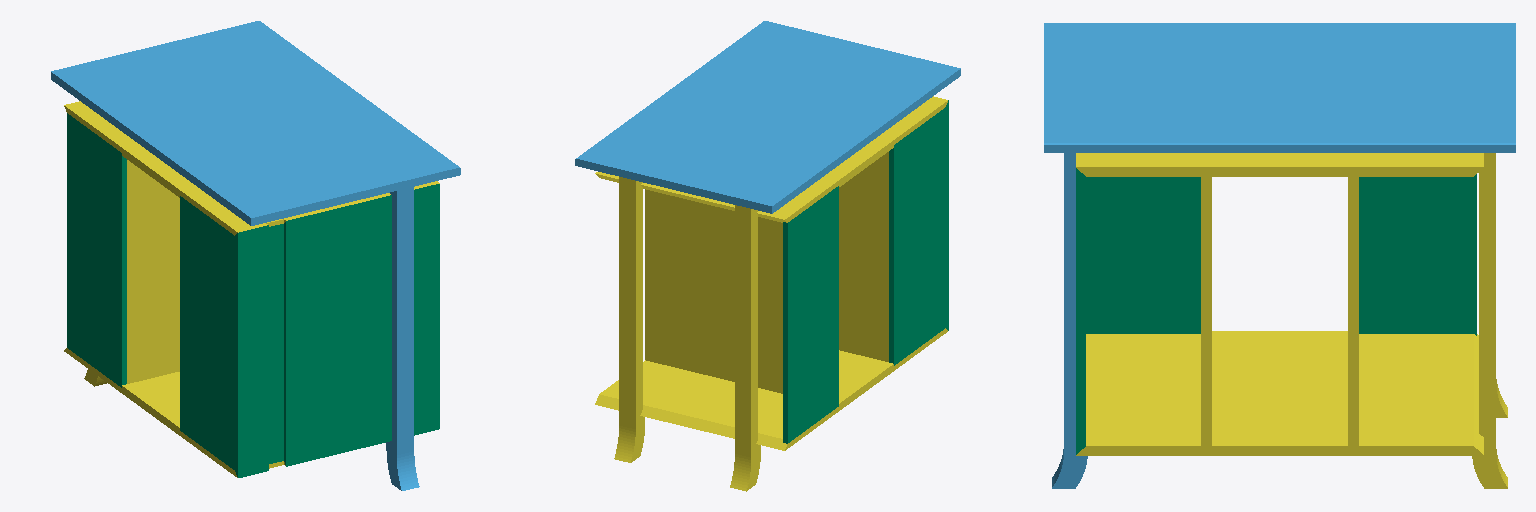
robot.urdf — partnet_1314c9a583812b9fc0eea8e38540939d:
<?xml version="1.0" ?>
<robot name="partnet_1314c9a583812b9fc0eea8e38540939d">
	<link name="base"/>
	<link name="link_0">
		<visual name="drawer_front-28">
			<origin xyz="0 0 0"/>
			<geometry>
				<mesh filename="textured_objs/original-10.obj"/>
			</geometry>
		</visual>
		<visual name="handle-27">
			<origin xyz="0 0 0"/>
			<geometry>
				<mesh filename="textured_objs/original-11.obj"/>
			</geometry>
		</visual>
		<collision>
			<origin xyz="0 0 0"/>
			<geometry>
				<mesh filename="textured_objs/original-10.obj"/>
			</geometry>
		</collision>
		<collision>
			<origin xyz="0 0 0"/>
			<geometry>
				<mesh filename="textured_objs/original-11.obj"/>
			</geometry>
		</collision>
	</link>
	<joint name="joint_0" type="prismatic">
		<origin xyz="0 0 0"/>
		<axis xyz="0 0 1"/>
		<child link="link_0"/>
		<parent link="link_2"/>
		<limit lower="0" upper="1"/>
	</joint>
	<link name="link_1">
		<visual name="drawer_front-25">
			<origin xyz="0 0 0"/>
			<geometry>
				<mesh filename="textured_objs/original-13.obj"/>
			</geometry>
		</visual>
		<visual name="drawer_bottom-29">
			<origin xyz="0 0 0"/>
			<geometry>
				<mesh filename="textured_objs/original-2.obj"/>
			</geometry>
		</visual>
		<visual name="handle-24">
			<origin xyz="0 0 0"/>
			<geometry>
				<mesh filename="textured_objs/original-14.obj"/>
			</geometry>
		</visual>
		<collision>
			<origin xyz="0 0 0"/>
			<geometry>
				<mesh filename="textured_objs/original-13.obj"/>
			</geometry>
		</collision>
		<collision>
			<origin xyz="0 0 0"/>
			<geometry>
				<mesh filename="textured_objs/original-2.obj"/>
			</geometry>
		</collision>
		<collision>
			<origin xyz="0 0 0"/>
			<geometry>
				<mesh filename="textured_objs/original-14.obj"/>
			</geometry>
		</collision>
	</link>
	<joint name="joint_1" type="prismatic">
		<origin xyz="0 0 0"/>
		<axis xyz="0 0 1"/>
		<child link="link_1"/>
		<parent link="link_2"/>
		<limit lower="0" upper="1"/>
	</joint>
	<link name="link_2">
		<visual name="board-32">
			<origin xyz="0 0 0"/>
			<geometry>
				<mesh filename="textured_objs/original-1.obj"/>
			</geometry>
		</visual>
		<visual name="board-32">
			<origin xyz="0 0 0"/>
			<geometry>
				<mesh filename="textured_objs/original-5.obj"/>
			</geometry>
		</visual>
		<visual name="back_panel-19">
			<origin xyz="0 0 0"/>
			<geometry>
				<mesh filename="textured_objs/original-4.obj"/>
			</geometry>
		</visual>
		<visual name="vertical_side_panel-20">
			<origin xyz="0 0 0"/>
			<geometry>
				<mesh filename="textured_objs/original-8.obj"/>
			</geometry>
		</visual>
		<visual name="vertical_side_panel-21">
			<origin xyz="0 0 0"/>
			<geometry>
				<mesh filename="textured_objs/original-7.obj"/>
			</geometry>
		</visual>
		<visual name="bottom_panel-22">
			<origin xyz="0 0 0"/>
			<geometry>
				<mesh filename="textured_objs/original-6.obj"/>
			</geometry>
		</visual>
		<collision>
			<origin xyz="0 0 0"/>
			<geometry>
				<mesh filename="textured_objs/original-1.obj"/>
			</geometry>
		</collision>
		<collision>
			<origin xyz="0 0 0"/>
			<geometry>
				<mesh filename="textured_objs/original-5.obj"/>
			</geometry>
		</collision>
		<collision>
			<origin xyz="0 0 0"/>
			<geometry>
				<mesh filename="textured_objs/original-4.obj"/>
			</geometry>
		</collision>
		<collision>
			<origin xyz="0 0 0"/>
			<geometry>
				<mesh filename="textured_objs/original-8.obj"/>
			</geometry>
		</collision>
		<collision>
			<origin xyz="0 0 0"/>
			<geometry>
				<mesh filename="textured_objs/original-7.obj"/>
			</geometry>
		</collision>
		<collision>
			<origin xyz="0 0 0"/>
			<geometry>
				<mesh filename="textured_objs/original-6.obj"/>
			</geometry>
		</collision>
	</link>
	<joint name="joint_2" type="fixed">
		<origin rpy="1.570796326794897 0 -1.570796326794897" xyz="0 0 0"/>
		<child link="link_2"/>
		<parent link="base"/>
	</joint>
</robot>

--- Facts derived from the render (not from the file) ---
Views: 3 orthographic renders of the robot side by side, from view 1: azimuth 30°, elevation 25°; view 2: azimuth 150°, elevation 25°; view 3: azimuth 270°, elevation 25°.
Robot: partnet_1314c9a583812b9fc0eea8e38540939d — 4 links, 3 joints (2 prismatic, 1 fixed); root link base; default pose: every joint at zero.
Links seen in each view (by area): view 1: link_1, link_0, link_2; view 2: link_2, link_0, link_1; view 3: link_2, link_0, link_1.
Link boxes in pixels (x1=…): link_1: x1=67, y1=113, x2=439, y2=477; link_0: x1=51, y1=21, x2=460, y2=490; link_2: x1=64, y1=101, x2=439, y2=477; link_2: x1=595, y1=96, x2=947, y2=491; link_0: x1=575, y1=21, x2=960, y2=213; link_1: x1=783, y1=100, x2=948, y2=443; link_2: x1=1076, y1=153, x2=1507, y2=488; link_0: x1=1044, y1=23, x2=1515, y2=488; link_1: x1=1076, y1=168, x2=1476, y2=454.
Size in the robot's own frame: 0.822 by 1.36 by 1.17 metres.
Meshes: 11 distinct files referenced, 11 mesh visuals loaded (11 OBJ).
